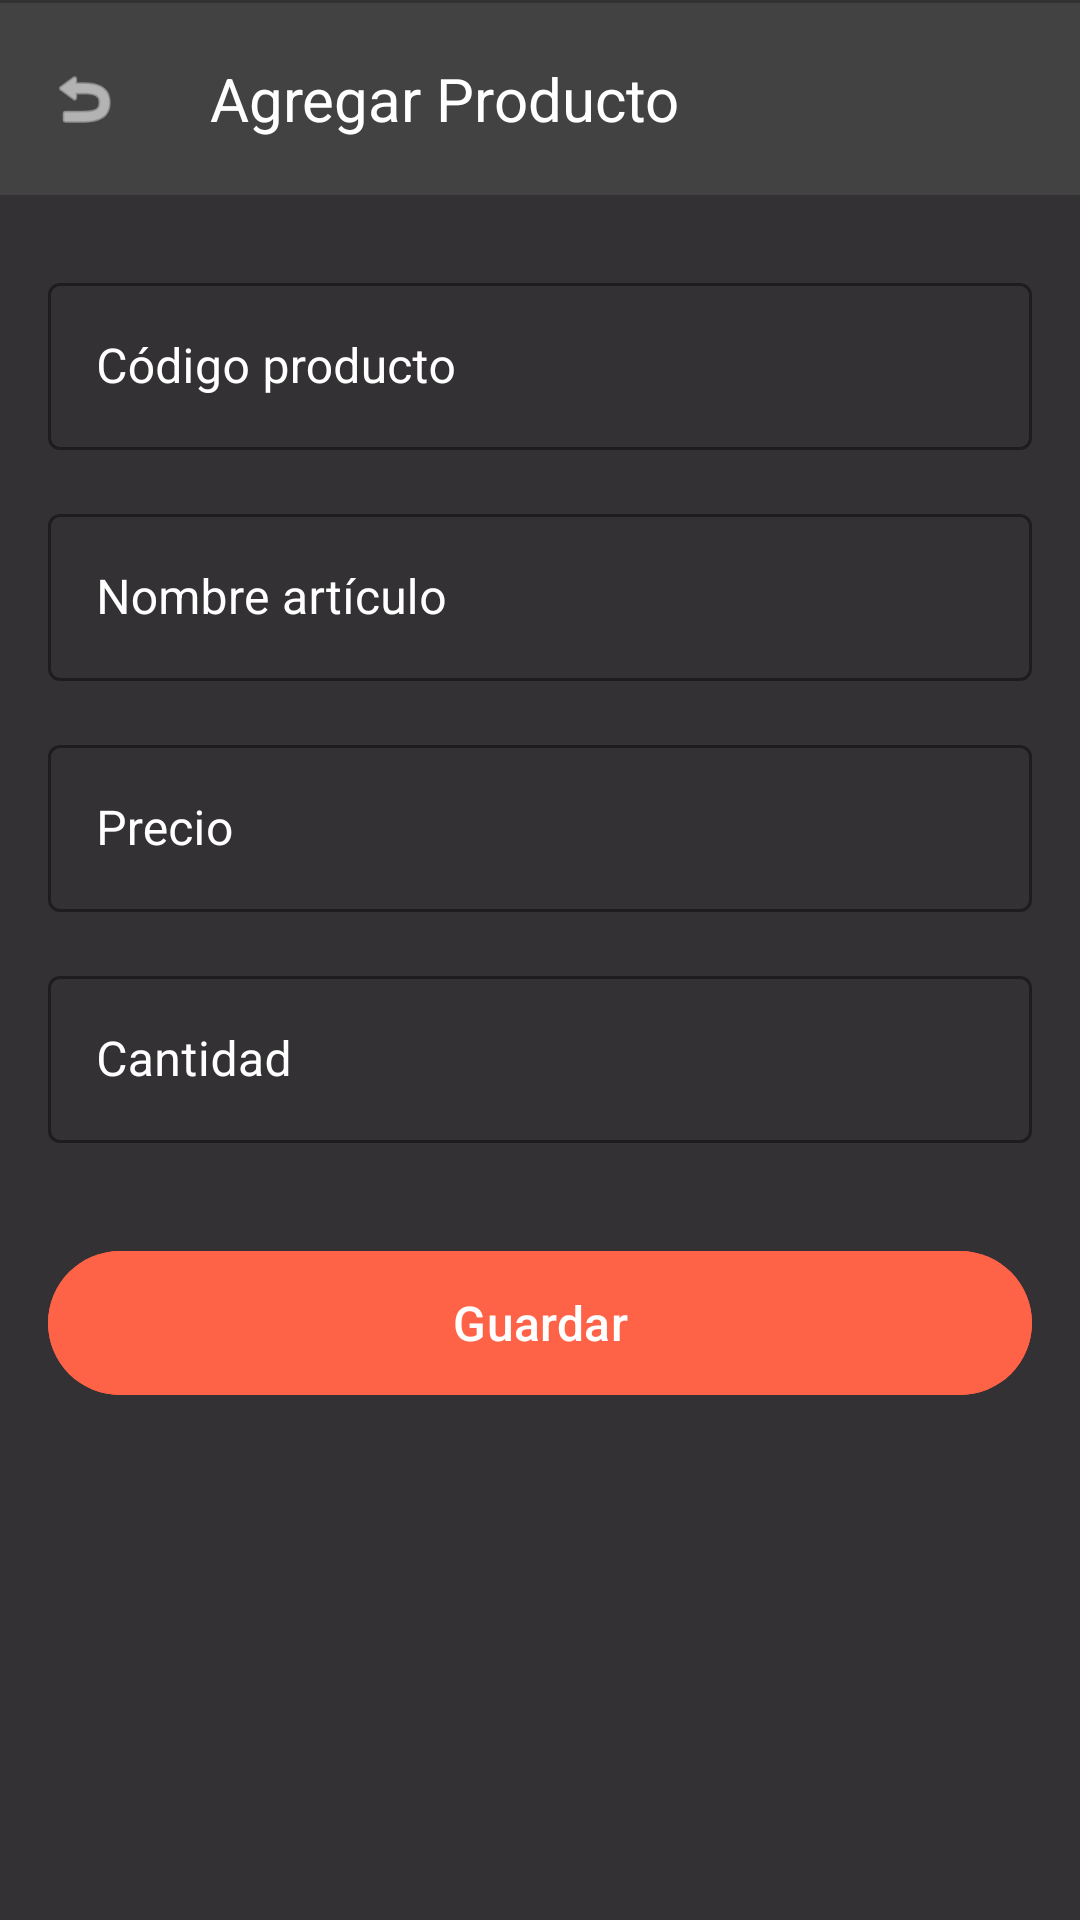

Named icons in this screenshot (1080px×1920px) and their bounding boxes, (x1, y1, x2, y2):
Volver: (59, 76, 111, 123)
